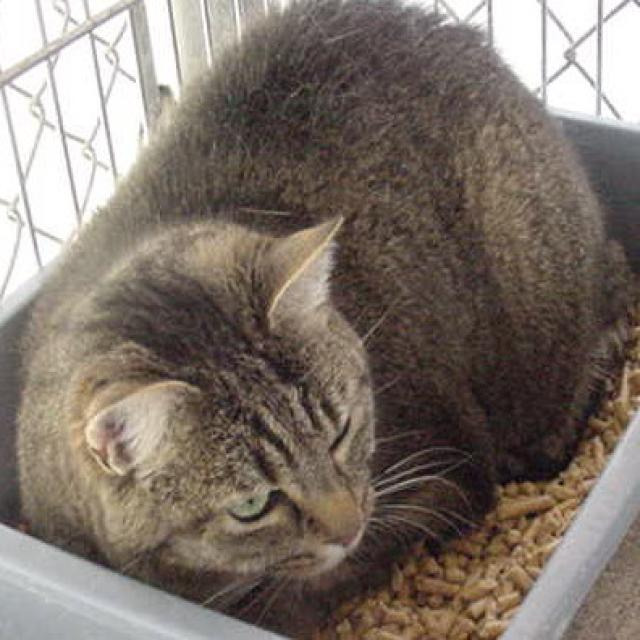Cats: (11, 0, 638, 635)
